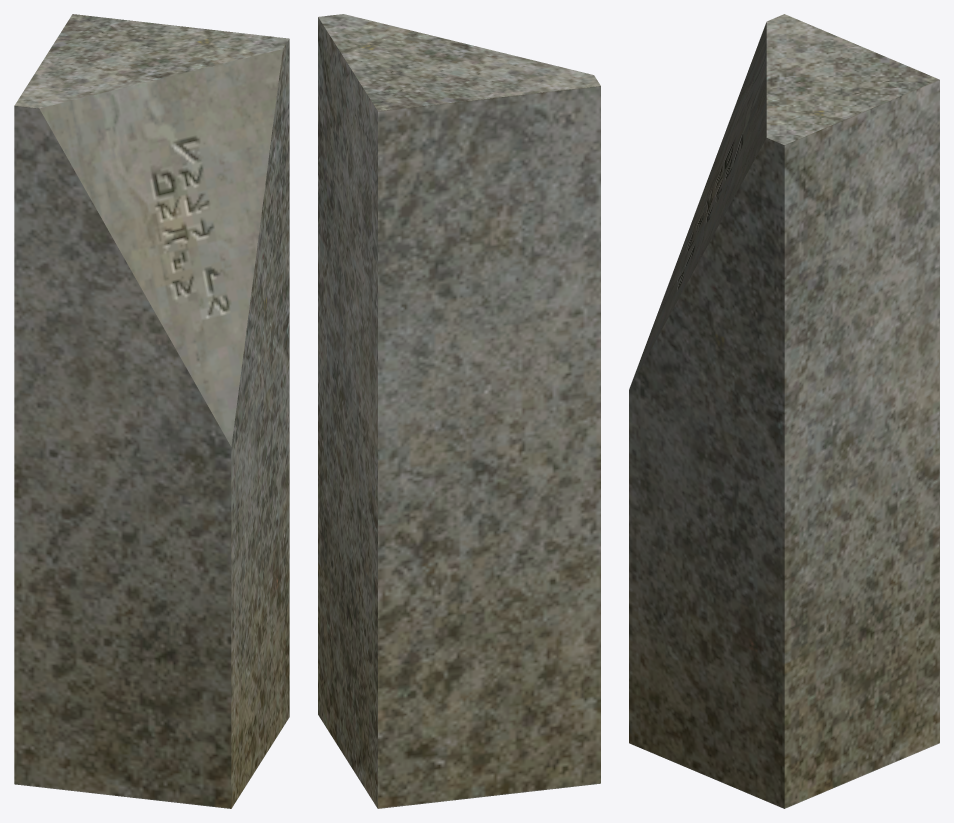
File: thm_all_gravestone_s03_l0.fbx
3 renders of one model, left to right at view 1: azimuth 30°, elevation 25°; view 2: azimuth 150°, elevation 25°; view 3: azimuth 270°, elevation 25°, orthographic. The views are drawn at different scales.
Parts seen in each view (by area): view 1: mesh_node; view 2: mesh_node; view 3: mesh_node.
Boxes of the visible parts, left/top/right/bottom form: mesh_node: left=14, top=14, right=289, bottom=808; mesh_node: left=318, top=14, right=600, bottom=808; mesh_node: left=629, top=14, right=939, bottom=808.
Bounding box in the file's own units: 0.4243 × 1 × 0.4243.
